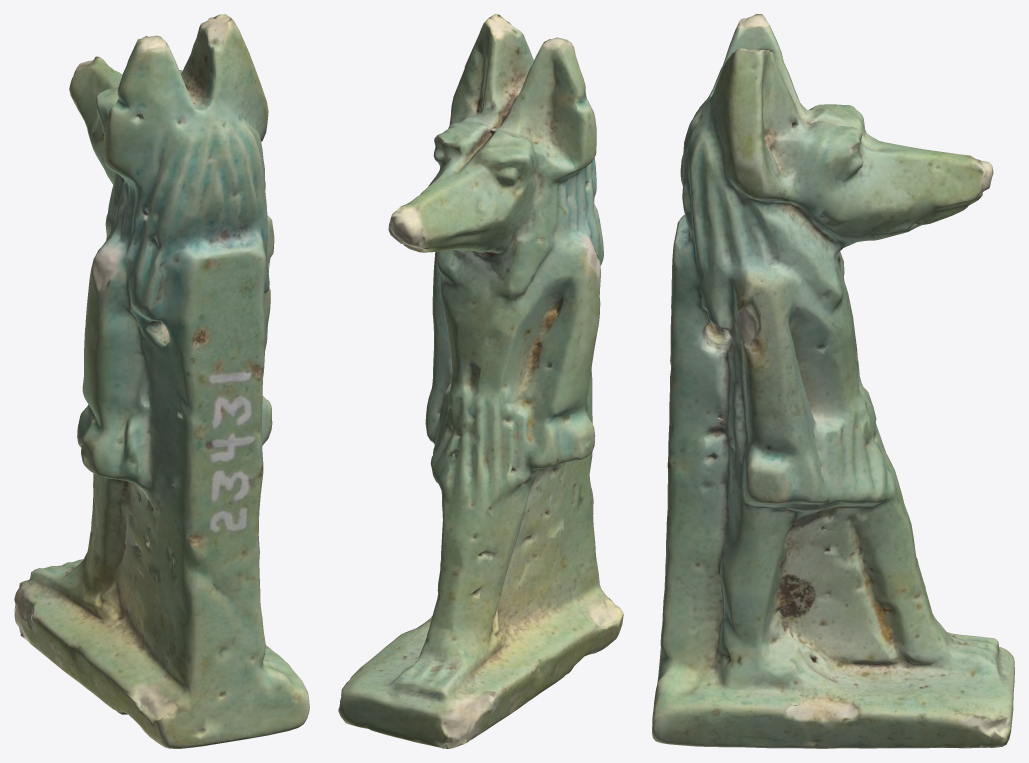
File: Jackal.glb
The picture shows the model from 3 angles, left to right: view 1: azimuth 30°, elevation 25°; view 2: azimuth 150°, elevation 25°; view 3: azimuth 270°, elevation 25°; orthographic projection. The views are drawn at different scales.
Parts seen in each view (by area): view 1: Object_2; view 2: Object_2; view 3: Object_2.
Part boxes in pixels (left/top/right/bottom): Object_2: left=14, top=14, right=309, bottom=748; Object_2: left=338, top=14, right=623, bottom=748; Object_2: left=652, top=14, right=1014, bottom=748.
Bounding box in the file's own units: 0.0161 × 0.0618 × 0.0296.
Materials: 1 (1 with a texture image).
